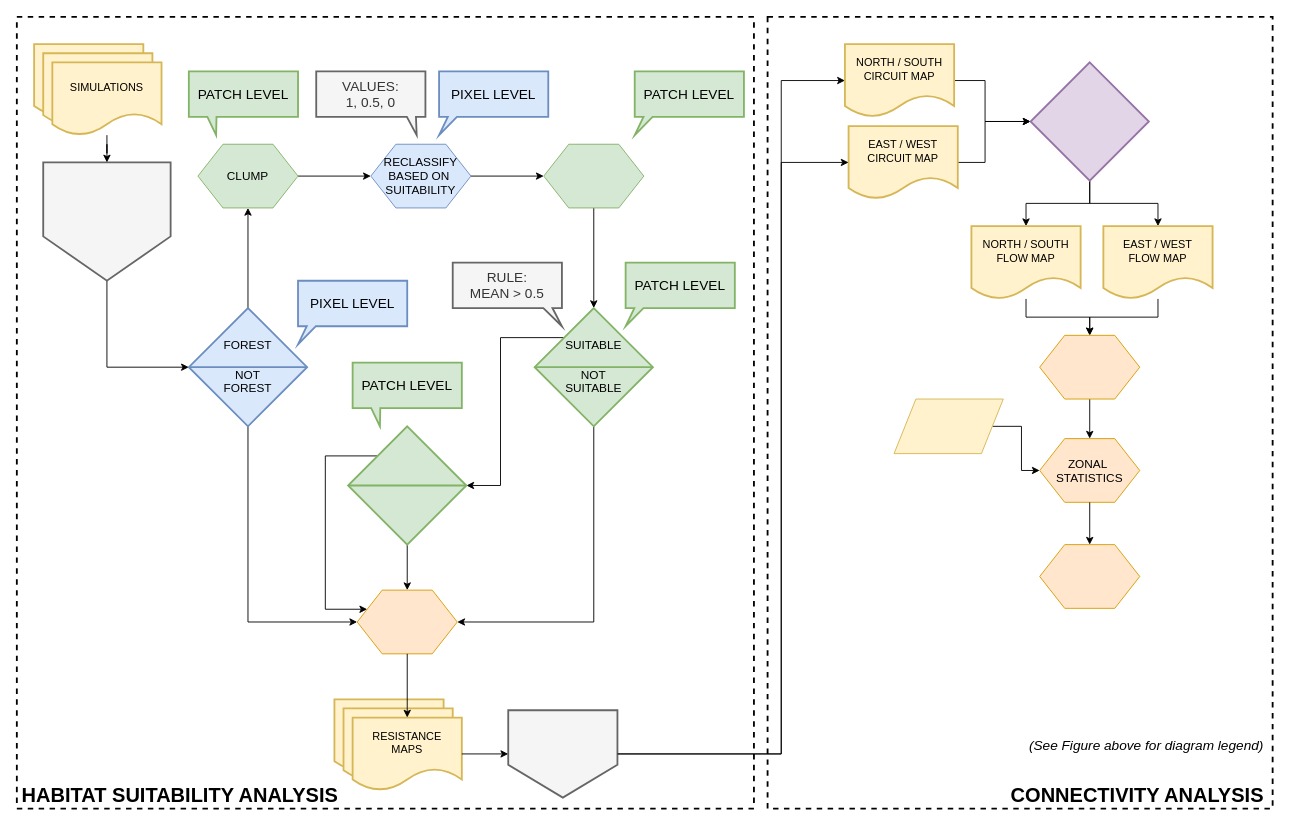
The diagram is 1289 pixels wide and 824 high, and some of its shapes have lost their labels. Here are the shapes that lost their labels. From the top down, the centre of each, then its label:
At (x=1089, y=121): "CIRCUITSCAPE".
At (x=593, y=175): "COMPUTE MEAN VALUE".
At (x=106, y=221): "FOR EACH: - ITERATION - TIMESTEP - SPECIES".
At (x=1089, y=366): "SUM".
At (x=948, y=426): "QC Municipality Boundary Files".
At (x=407, y=485): "PATCH GOOD SIZE PATH TOO SMALL".
At (x=1089, y=576): "SURF ANALYSIS".
At (x=406, y=621): "RECLASSIFY INTO RESISTANCE".
At (x=562, y=753): "FOR EACH RESISTANCE MAP".
